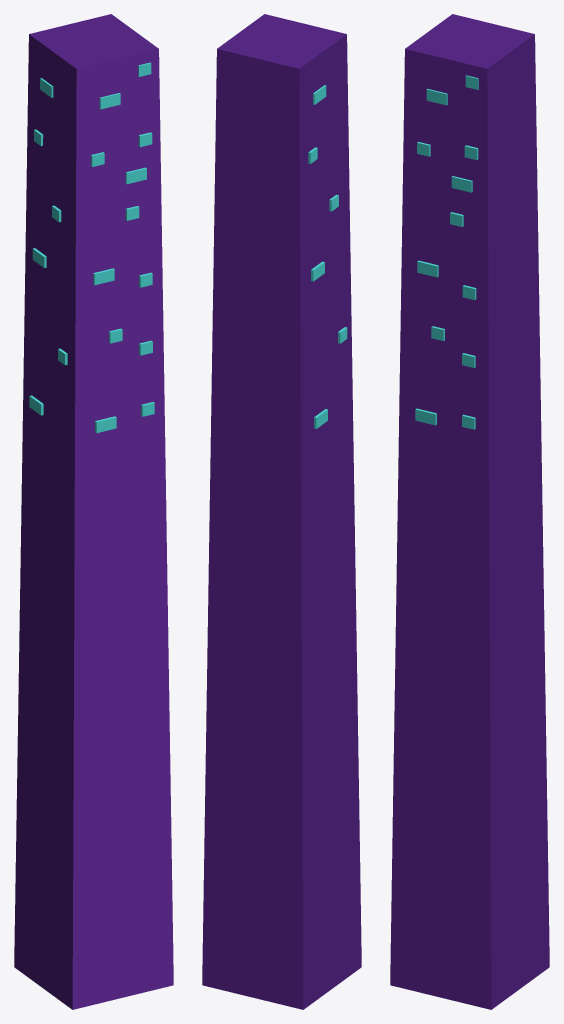
File: Build_sci_fi_7.fbx
3 renders of one model, left to right at view 1: azimuth 30°, elevation 25°; view 2: azimuth 150°, elevation 25°; view 3: azimuth 330°, elevation 25°, orthographic.
Visible parts, largest first — view 1: Build_sci_fi_7; view 2: Build_sci_fi_7; view 3: Build_sci_fi_7.
Boxes of the visible parts, box(x1,y1,x2,y2) form: Build_sci_fi_7: box(14, 14, 173, 1009); Build_sci_fi_7: box(202, 14, 361, 1009); Build_sci_fi_7: box(390, 14, 549, 1009).
Bounding box in the file's own units: 85.33 × 753 × 85.33.
